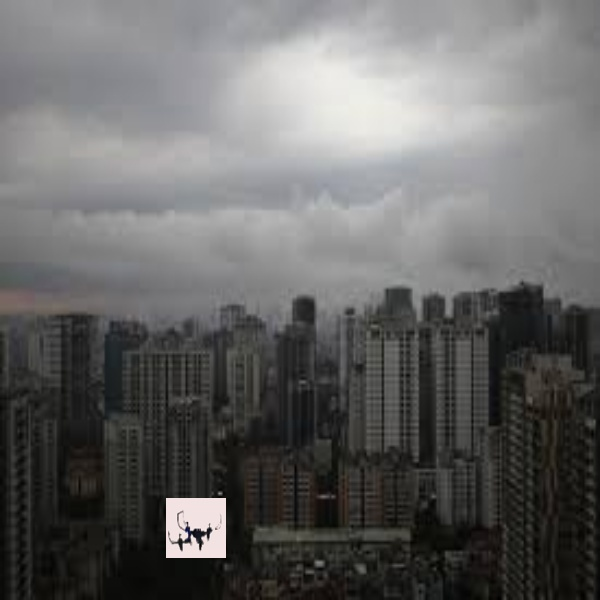drone: (164, 505, 227, 561)
